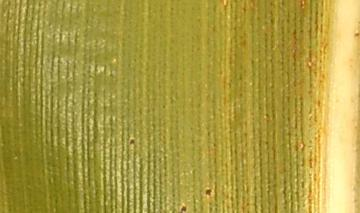tarspot: (203, 187, 212, 198), (178, 205, 188, 213), (128, 137, 136, 147)
